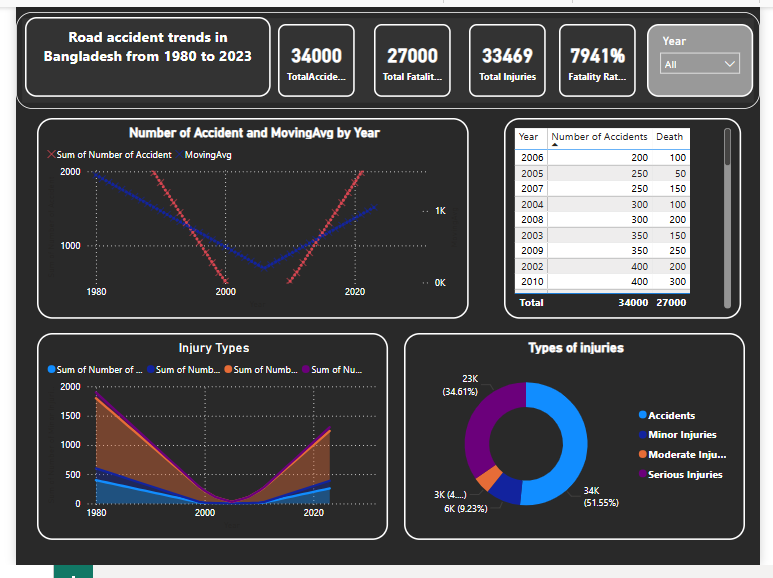

The page's visual inventory and layout, read from the dashboard file:
{"tool":"powerbi","page":{"name":"Page 1","canvas":[960,720],"ordinal":0},"visuals":[{"type":"lineChart","title":"Number of Accident and MovingAvg by Year","fields":{"Y2":["road_accident.MovingAvg"],"Y":["Sum(road_accident.Number of Accident)"],"Category":["road_accident.Year"]},"box":[26.7,114.7,557.7,259.4],"z":0},{"type":"stackedAreaChart","title":"Injury Types","fields":{"Category":["road_accident.Year"],"Y":["Sum(road_accident.Number of Minor Injuries)","Sum(road_accident.Number of Moderate Injuries)","Sum(road_accident.Number of Serious Injuries)","Sum(road_accident.Number of Severe Injuries)"]},"box":[26.7,397.4,453.1,267.2],"z":1000},{"type":"tableEx","fields":{"Values":["road_accident.Year","Sum(road_accident.Number of Accidents)","Sum(road_accident.Death)"]},"box":[617.8,114.7,306.1,259.4],"z":2000},{"type":"donutChart","title":"Types of injuries","fields":{"Y":["Sum(road_accident.Number of Accidents)","Sum(road_accident.Number of Minor Injuries)","Sum(road_accident.Number of Moderate Injuries)","Sum(road_accident.Number of Serious Injuries)"]},"box":[500.9,397.4,439.7,267.2],"z":3000},{"type":"shape","box":[0,6.7,897.2,96.8],"z":3001},{"type":"card","fields":{"Values":["road_accident.TotalAccidents"]},"box":[253.8,20,123.6,71.2],"z":3002},{"type":"card","fields":{"Values":["road_accident.Total Fatalities"]},"box":[401.9,20,123.6,71.2],"z":3003},{"type":"card","fields":{"Values":["road_accident.Total Injuries"]},"box":[538.8,20,123.6,71.2],"z":3004},{"type":"card","fields":{"Values":["road_accident.Fatality Rate (%)"]},"box":[673.5,20,123.6,71.2],"z":3005},{"type":"slicer","fields":{"Values":["road_accident.Year"]},"box":[100,100,300,300],"z":3006}]}

Visuals, with their boxes in screenshot pixels (x1, y1, x2, y2), scaled from the page's 960x720 canvas onto the 773x578 screenshot:
"Number of Accident and MovingAvg by Year" lineChart: box=[21, 92, 471, 300]
"Injury Types" stackedAreaChart: box=[21, 319, 386, 534]
tableEx - road_accident.Year x Sum(road_accident.Number of Accidents): box=[497, 92, 744, 300]
"Types of injuries" donutChart: box=[403, 319, 757, 534]
shape: box=[0, 5, 722, 83]
card - road_accident.TotalAccidents: box=[204, 16, 304, 73]
card - road_accident.Total Fatalities: box=[324, 16, 423, 73]
card - road_accident.Total Injuries: box=[434, 16, 533, 73]
card - road_accident.Fatality Rate (%): box=[542, 16, 642, 73]
slicer - road_accident.Year: box=[81, 80, 322, 321]
